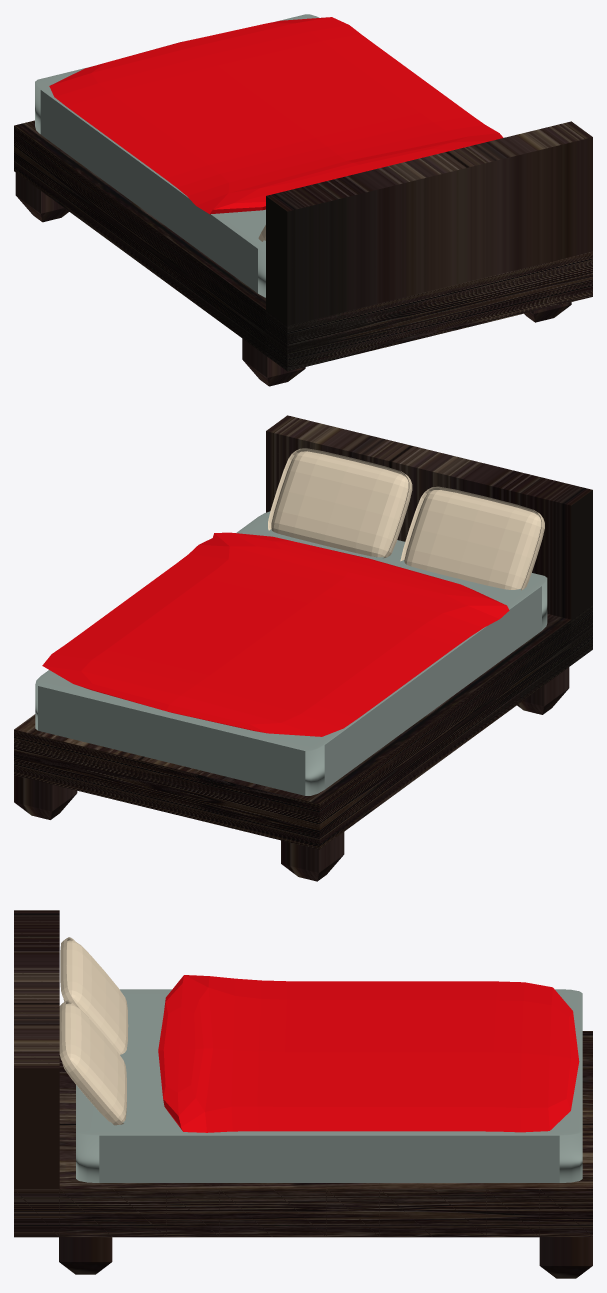
Rendered from Bed.glb.
3 renders of one model, top to bottom at view 1: azimuth 30°, elevation 25°; view 2: azimuth 150°, elevation 25°; view 3: azimuth 270°, elevation 25°, orthographic. The views are drawn at different scales.
Visible parts, largest first — view 1: bed, Cube, mattress; view 2: Cube, bed, mattress, pillow, pillow.001; view 3: Cube, bed, mattress, pillow, pillow.001.
Part boxes in pixels (x1,y1,x2,y2): bed: [14, 120, 592, 386]; Cube: [49, 17, 503, 214]; mattress: [35, 14, 319, 297]; Cube: [42, 532, 509, 736]; bed: [14, 415, 592, 881]; mattress: [35, 511, 547, 795]; pillow: [268, 448, 412, 558]; pillow.001: [400, 486, 544, 590]; Cube: [158, 975, 579, 1132]; bed: [14, 910, 592, 1278]; mattress: [76, 989, 582, 1182]; pillow: [59, 1000, 126, 1125]; pillow.001: [60, 937, 128, 1054].
Size of the model in its own units: 1.4 by 0.8912 by 2.17.
4 materials, 1 textured.
